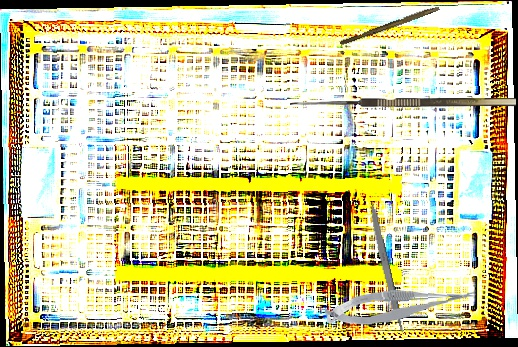Hook Surgical: (290, 98, 516, 118)
Micro Scissor: (324, 285, 476, 328)
Scalpel Handle: (365, 200, 406, 335), (339, 3, 440, 48)
